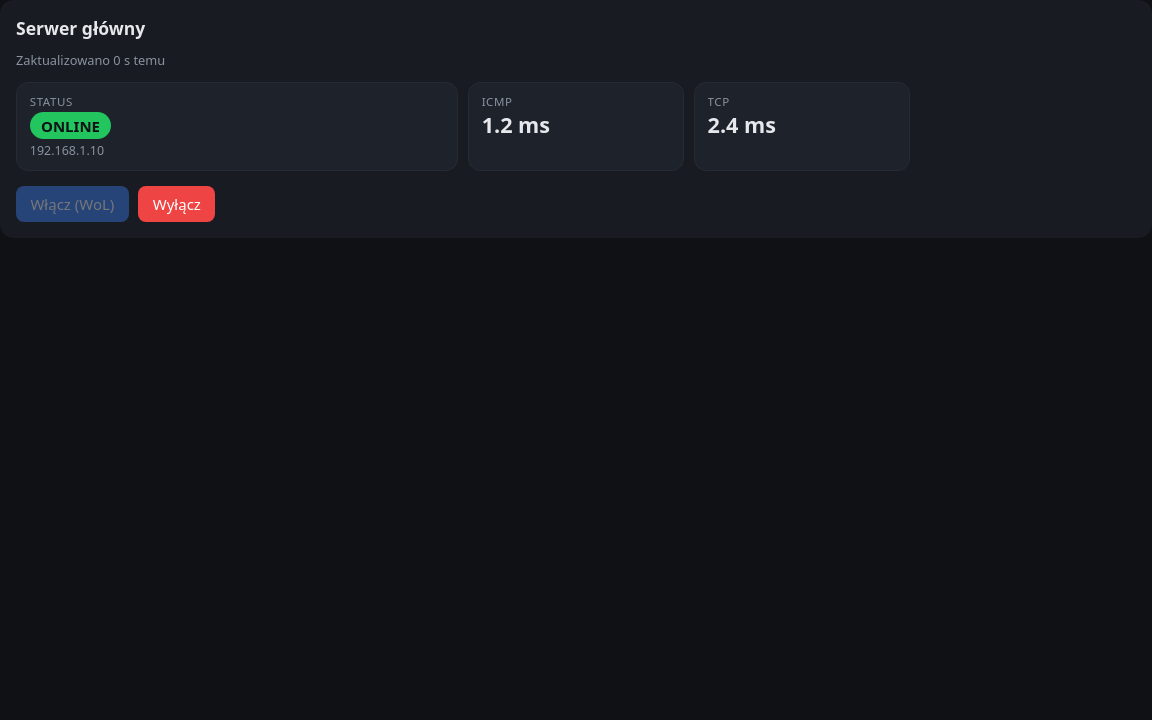
Test: StatusCard: wyłączanie przez ConfirmDialog › błąd (złe hasło) pokazuje komunikat z rolą alert
Expected: the text "ONLINE" is shown, [30,112,111,139]
Click the button "Wyłącz": (177, 204) [138,186,215,222]
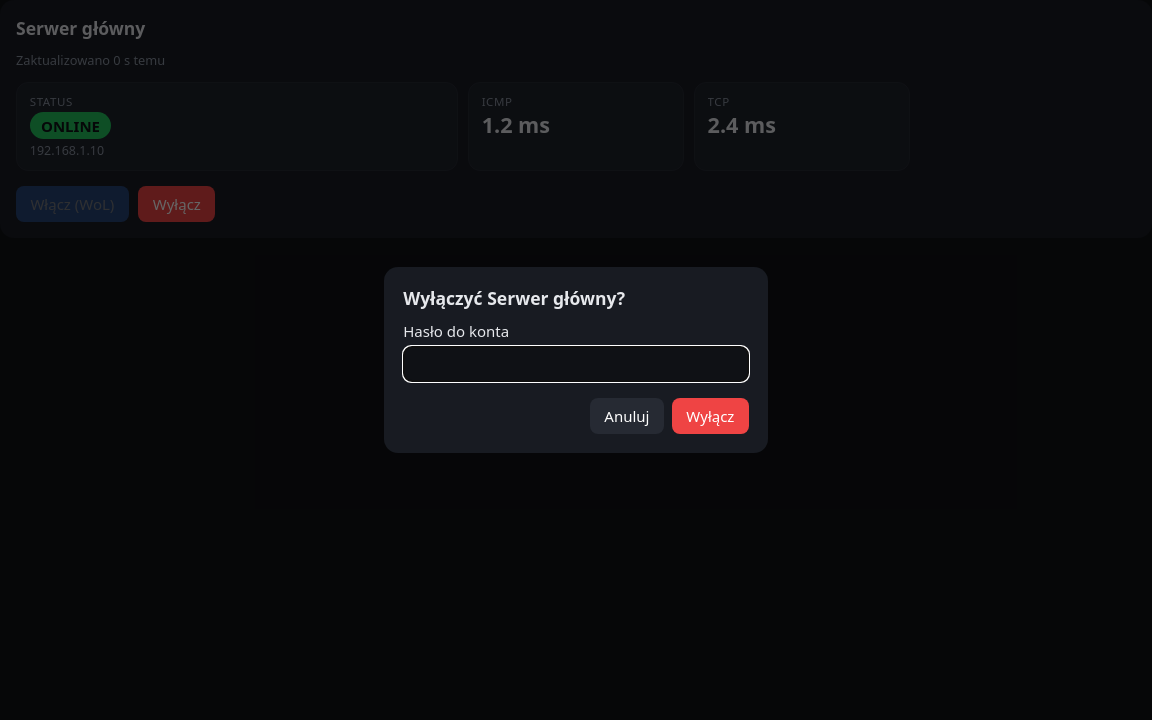
In the password field labelled "Hasło do konta": (576, 364) [403,346,749,382], type "zle"
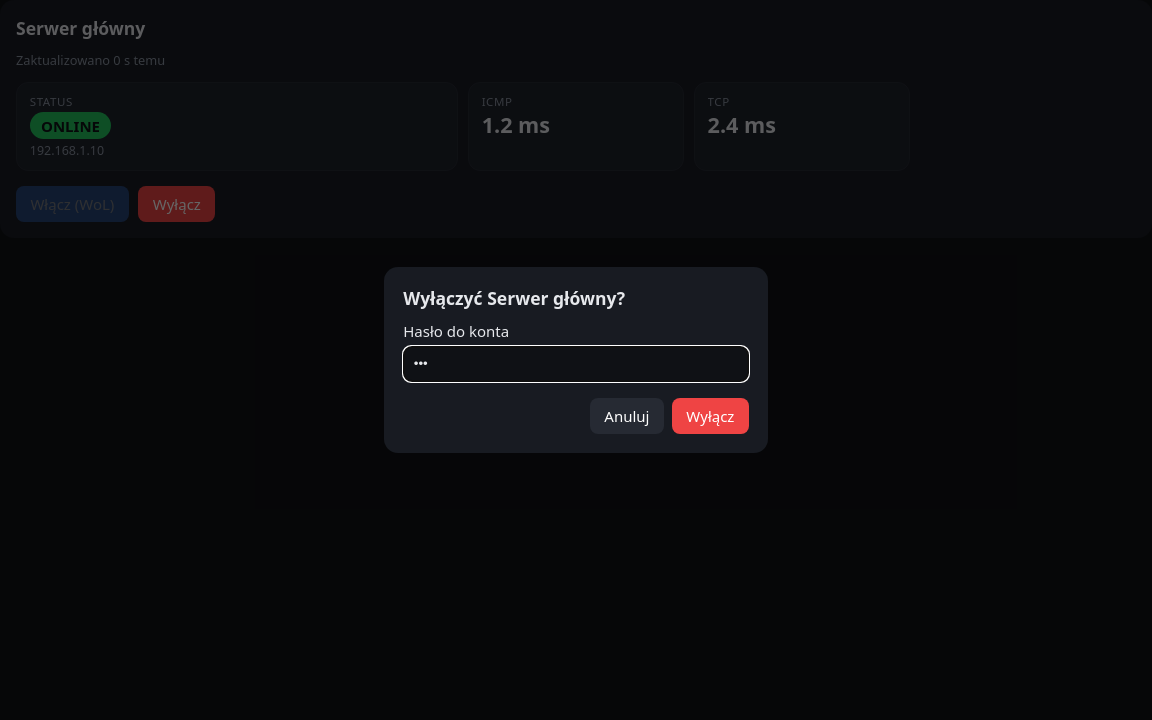
Press Enter
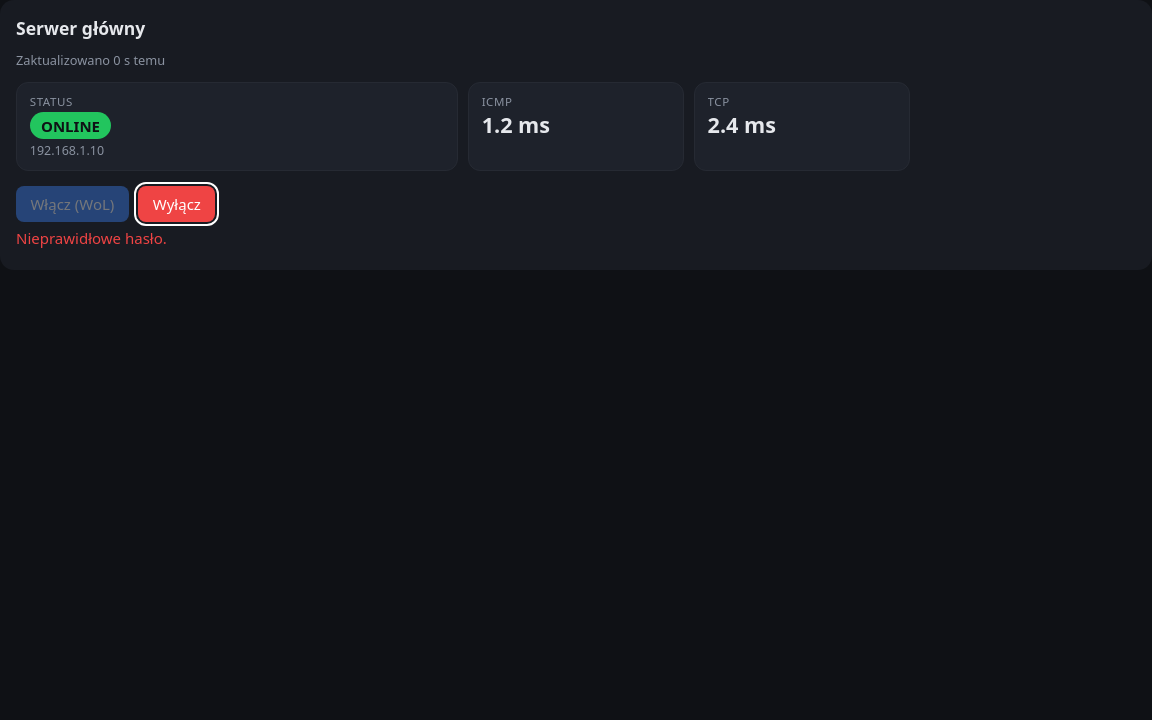
Expected: the message reads "Nieprawidłowe hasło.", [16,228,167,248]
